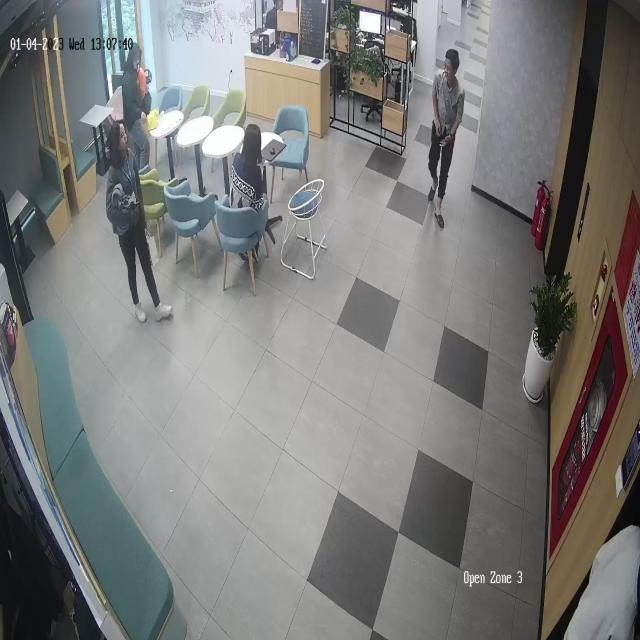person: (105, 120, 173, 325), (427, 46, 465, 229), (229, 122, 278, 259), (122, 45, 153, 169)
